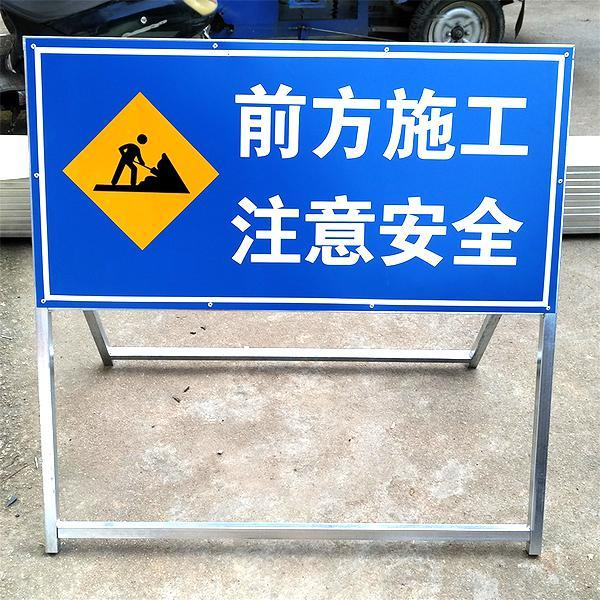sign: (24, 39, 562, 318)
